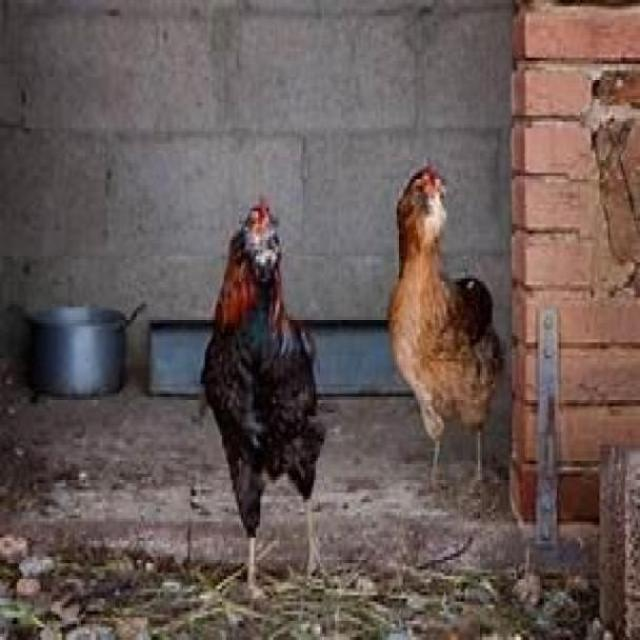Chicken: (199, 202, 329, 595), (388, 167, 506, 487)
